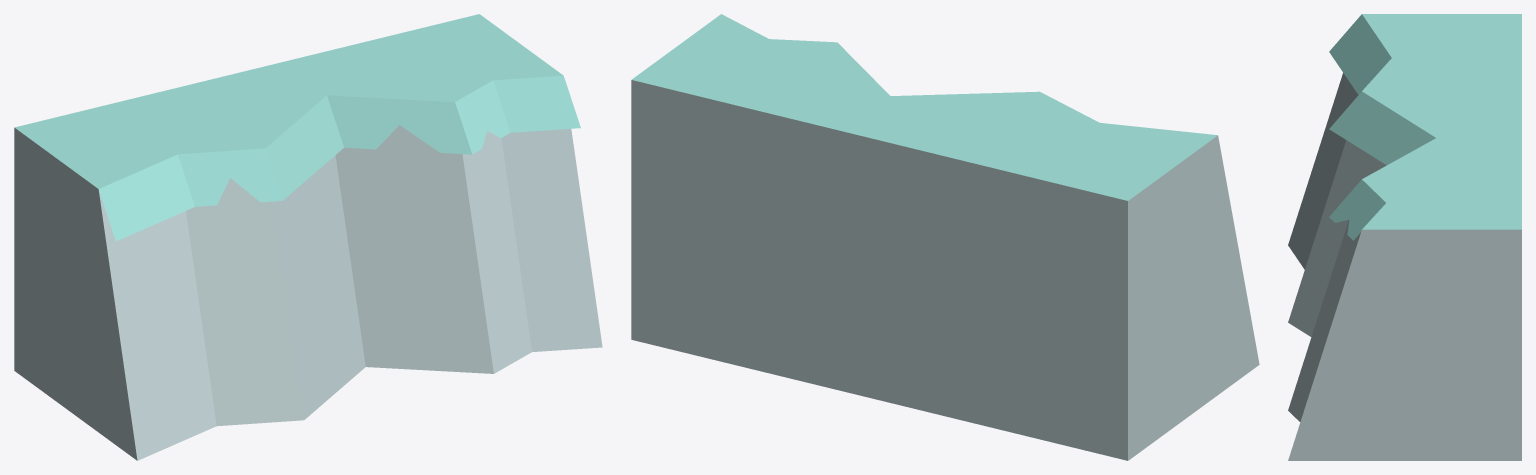
File: cliffGrey_half.glb
3 views of the same model, side by side, from view 1: azimuth 30°, elevation 25°; view 2: azimuth 150°, elevation 25°; view 3: azimuth 270°, elevation 25° (orthographic). The views are drawn at different scales.
Parts seen in each view (by area): view 1: cliffGrey_half; view 2: cliffGrey_half; view 3: cliffGrey_half.
Part boxes in pixels (box(x1,y1,x2,y2)): cliffGrey_half: box(14, 14, 602, 460); cliffGrey_half: box(631, 14, 1259, 460); cliffGrey_half: box(1288, 14, 1521, 460).
Bounding box in the file's own units: 1 × 0.5 × 0.4584.
